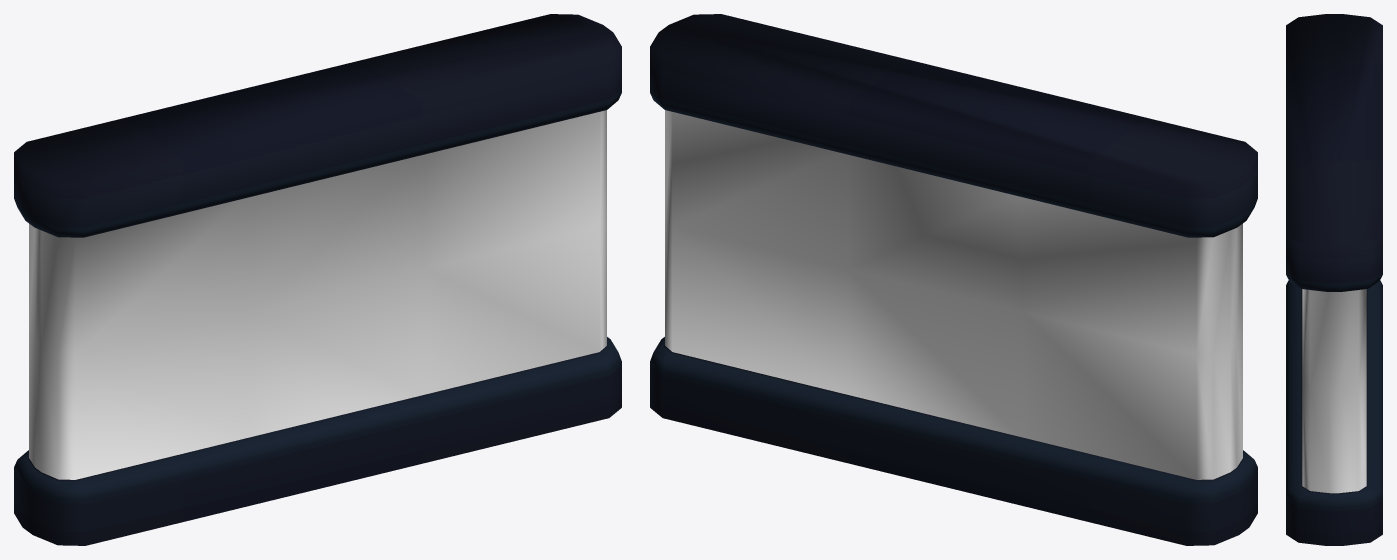
The model's file is Env3_Wall.fbx.
3 views of the same model, side by side, from view 1: azimuth 30°, elevation 25°; view 2: azimuth 150°, elevation 25°; view 3: azimuth 270°, elevation 25° (orthographic). The views are drawn at different scales.
Parts seen in each view (by area): view 1: Env1_Wall; view 2: Env1_Wall; view 3: Env1_Wall.
Part boxes in pixels (box(x1,y1,x2,y2)): Env1_Wall: box(14, 14, 621, 545); Env1_Wall: box(650, 14, 1257, 545); Env1_Wall: box(1286, 14, 1382, 545).
Size of the model in its own units: 332 by 198 by 58.24.
